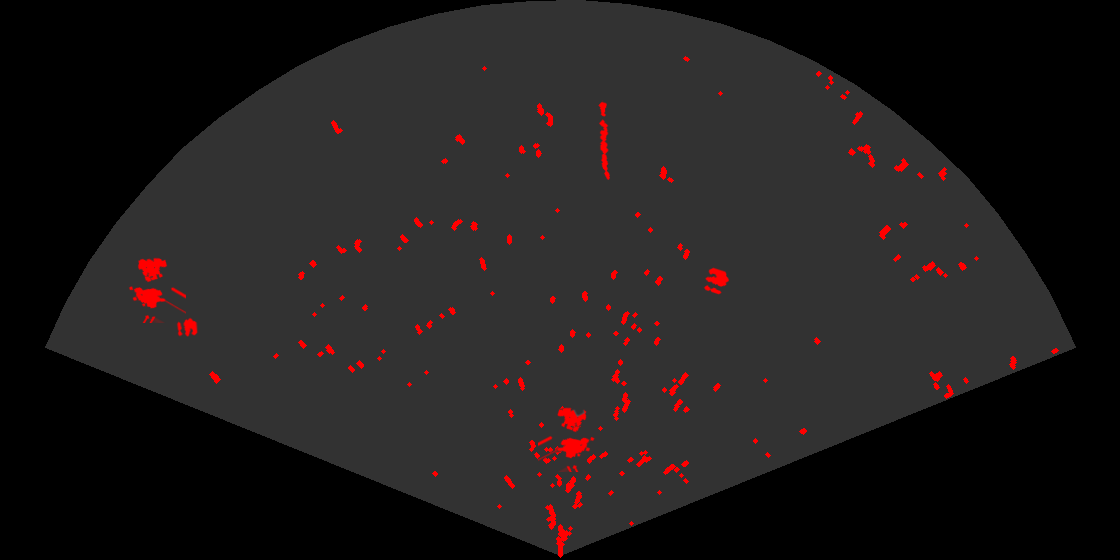ball: (702, 266, 731, 296), (175, 316, 199, 338)
cage: (128, 256, 186, 323), (538, 406, 596, 472)
chain: (597, 100, 611, 180)
